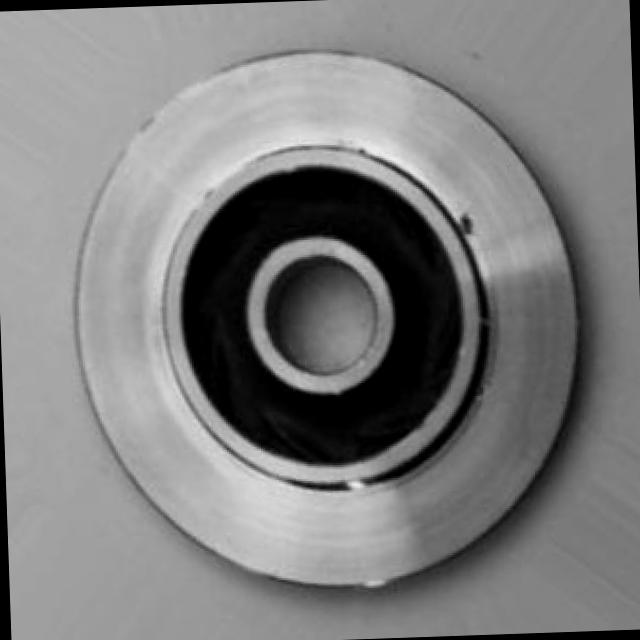Defect: (454, 203, 482, 240)
